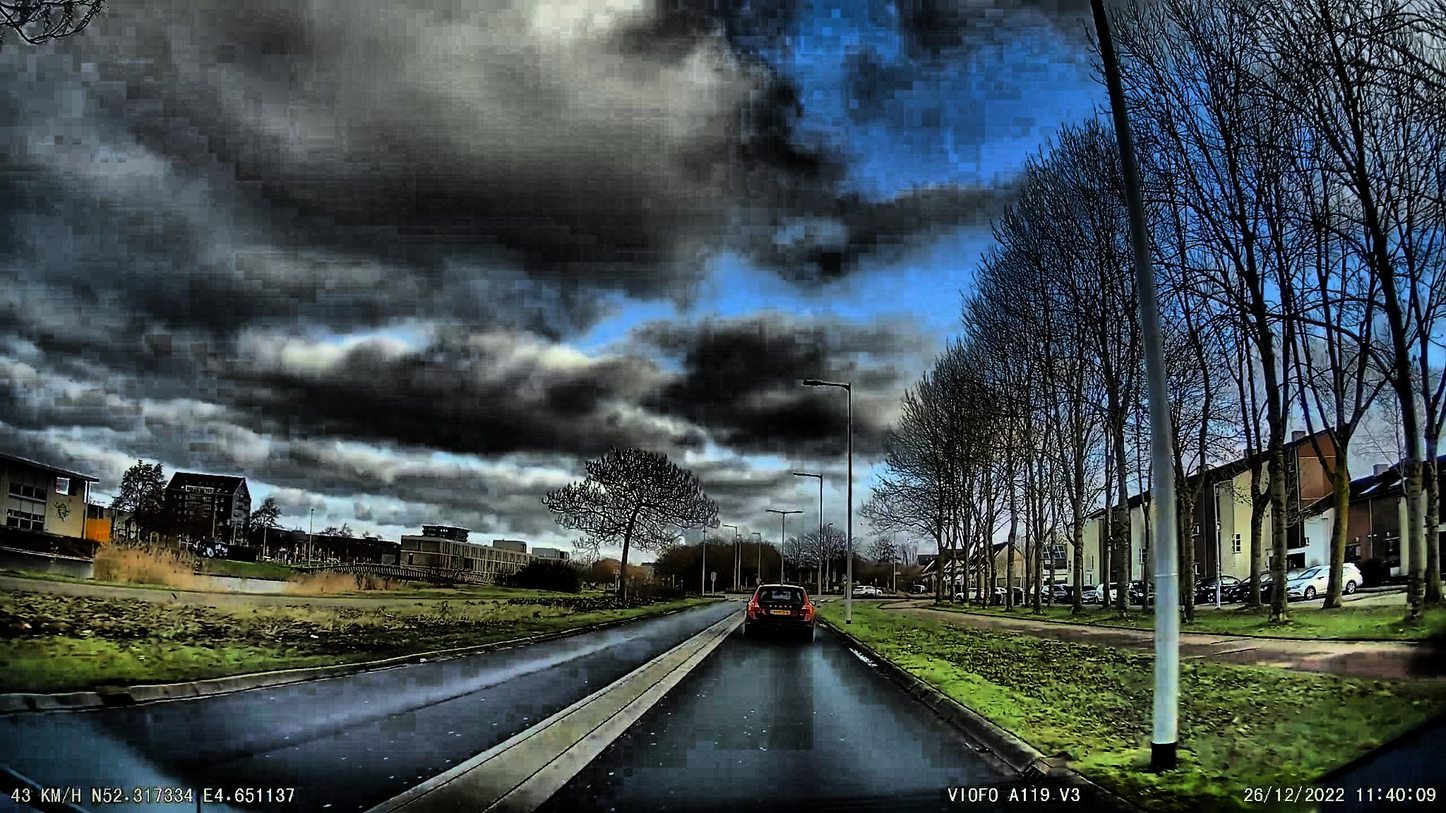Roads: (0, 605, 1144, 813)
